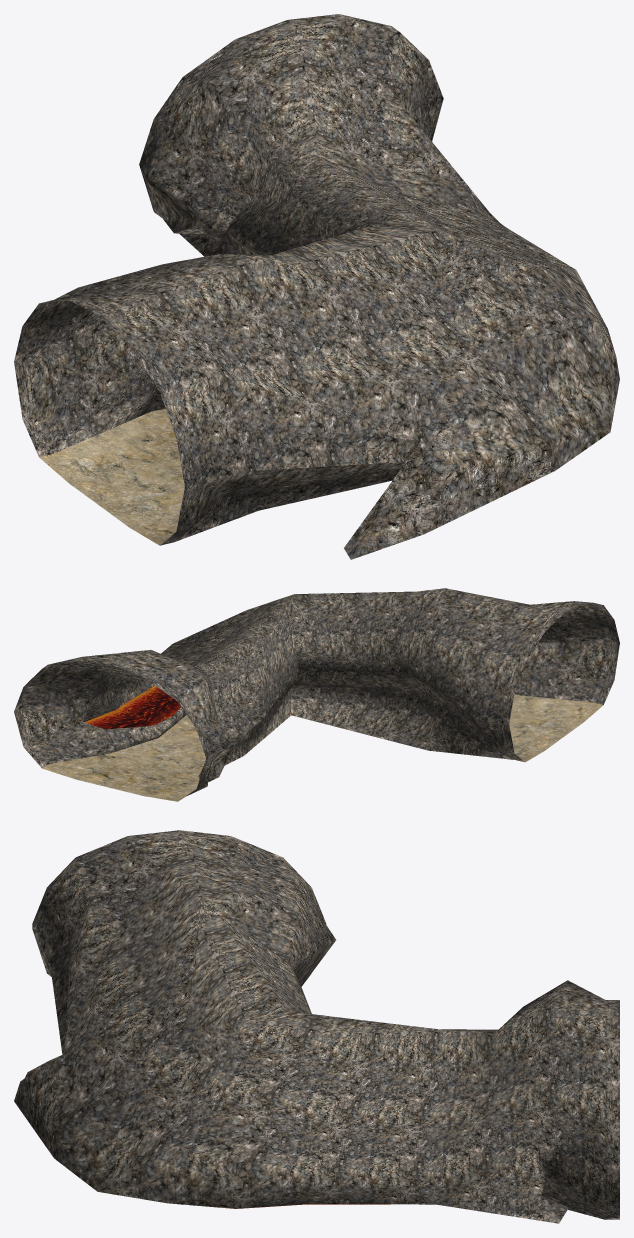
Rendered from pir_m_are_cav_curveWide_lava.fbx.
The picture shows the model from 3 angles, top to bottom: view 1: azimuth 30°, elevation 25°; view 2: azimuth 150°, elevation 25°; view 3: azimuth 270°, elevation 25°; orthographic projection. The views are drawn at different scales.
Visible parts, largest first — view 1: curveWide_wall, curveWide_floor; view 2: curveWide_wall, curveWide_floor, lava; view 3: curveWide_wall.
Part boxes in pixels (bbox=[...]): curveWide_wall: bbox=[14, 14, 619, 559]; curveWide_floor: bbox=[39, 409, 184, 545]; curveWide_wall: bbox=[14, 588, 619, 799]; curveWide_floor: bbox=[42, 694, 603, 801]; lava: bbox=[84, 685, 180, 729]; curveWide_wall: bbox=[14, 830, 619, 1223].
Size of the model in its own units: 20000 by 7132 by 20629.
3 materials, 3 textured.
